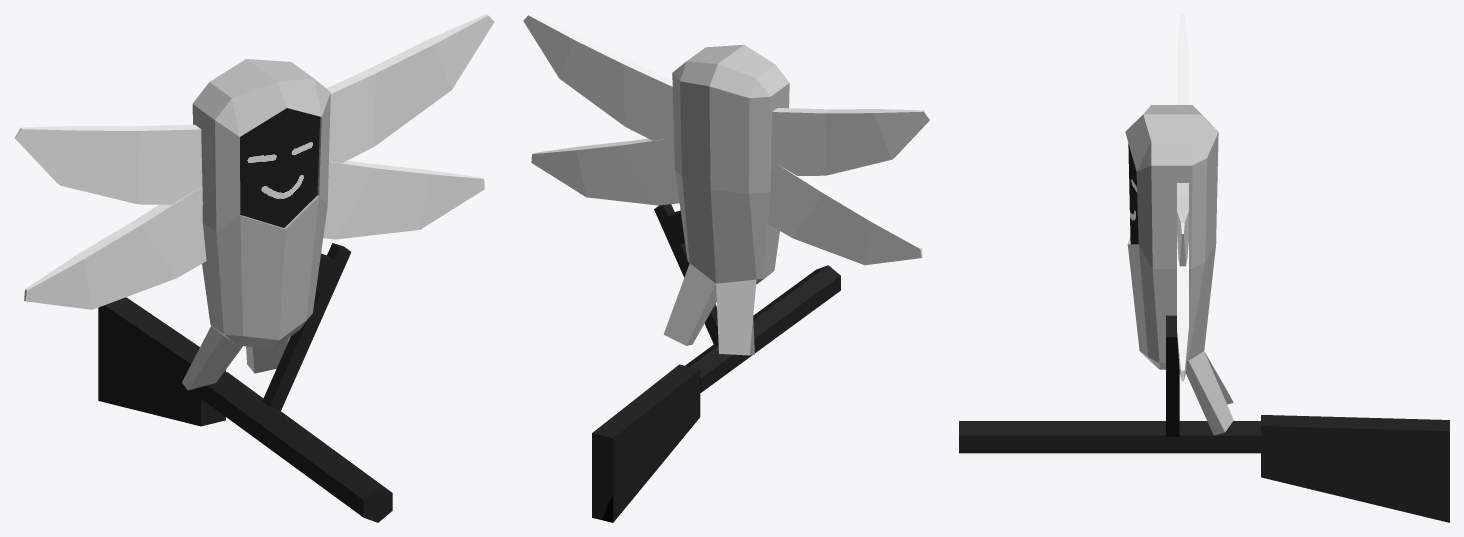
File: Dron.fbx
3 views of the same model, side by side, from view 1: azimuth 30°, elevation 25°; view 2: azimuth 150°, elevation 25°; view 3: azimuth 270°, elevation 25° (orthographic). The views are drawn at different scales.
Parts seen in each view (by area): view 1: Dron; view 2: Dron; view 3: Dron.
Boxes of the visible parts, <box> form: Dron: <box>14,14,494,522</box>; Dron: <box>523,14,930,522</box>; Dron: <box>959,14,1449,522</box>.
Size of the model in its own units: 0.7702 by 0.673 by 0.7427.
1 material, 1 textured.
